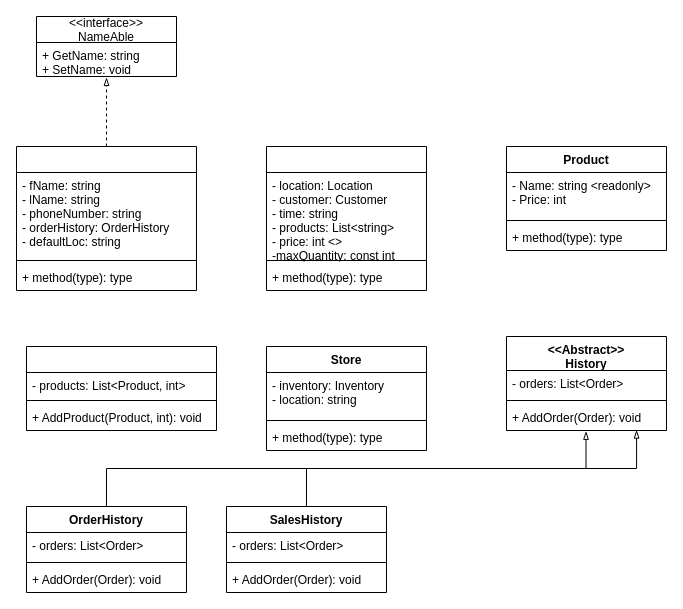
The diagram is 683 pixels wide and 609 high, and some of its shapes have lost their labels. Each missing label, with the box of its shape:
Customer: (16, 146, 196, 290)
Inventory: (26, 346, 216, 430)
Order: (266, 146, 426, 290)
